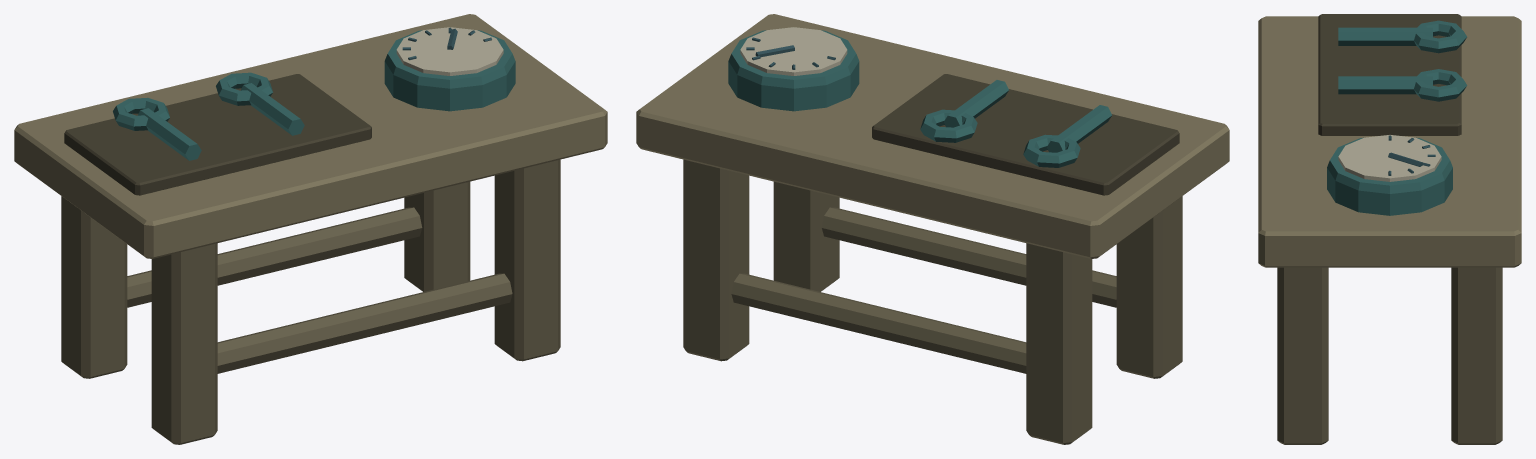
File: service-bench.glb
3 renders of one model, left to right at view 1: azimuth 30°, elevation 25°; view 2: azimuth 150°, elevation 25°; view 3: azimuth 270°, elevation 25°, orthographic. The views are drawn at different scales.
Visible parts, largest first — view 1: service-bench__body; view 2: service-bench__body; view 3: service-bench__body.
Boxes of the visible parts, x1,y1,x2,y2 form: service-bench__body: (14, 14, 607, 444); service-bench__body: (636, 14, 1229, 444); service-bench__body: (1258, 14, 1521, 444).
Size of the model in its own units: 0.9 by 0.5157 by 0.46.
